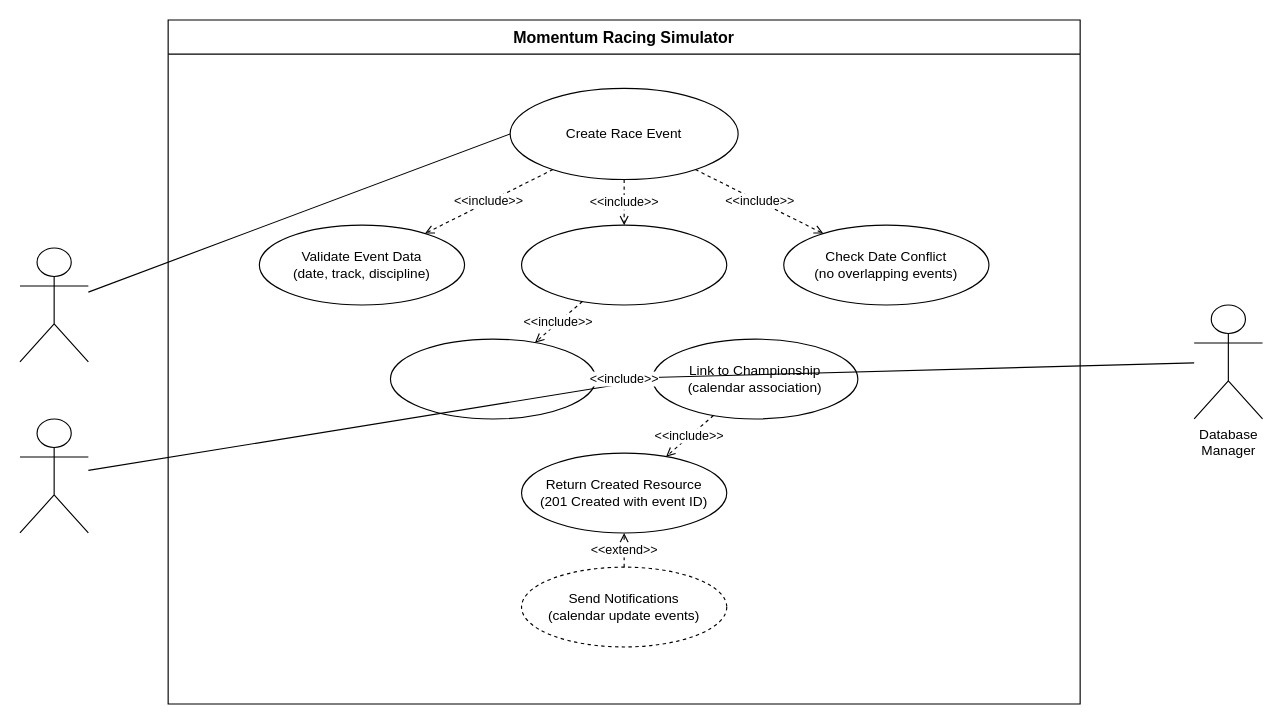
Some shapes in this 1283 by 724 pixel diagram are drawn without their labels. Each missing label, with the box of its shape:
Admin: (19, 247, 88, 362)
Check Track Availability (not double-booked): (520, 224, 727, 305)
Insert Event Record (races table): (389, 338, 596, 419)
Scheduler: (19, 418, 88, 533)
